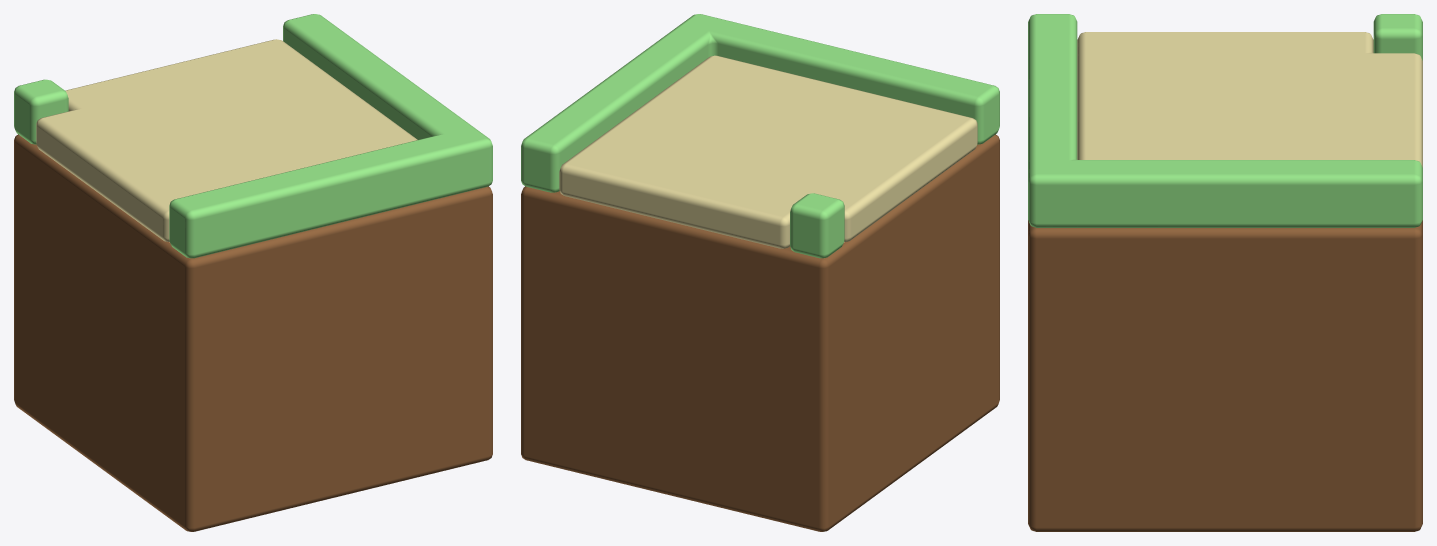
File: Path Tile - Corner- 1x1.glb
3 views of the same model, side by side, from view 1: azimuth 30°, elevation 25°; view 2: azimuth 150°, elevation 25°; view 3: azimuth 270°, elevation 25° (orthographic). The views are drawn at different scales.
Visible parts, largest first — view 1: Path Corner - BR; view 2: Path Corner - BR; view 3: Path Corner - BR.
Boxes of the visible parts, <box> form: Path Corner - BR: <box>14,14,492,531</box>; Path Corner - BR: <box>521,14,999,531</box>; Path Corner - BR: <box>1028,14,1422,531</box>.
Size of the model in its own units: 2 by 2 by 2.
